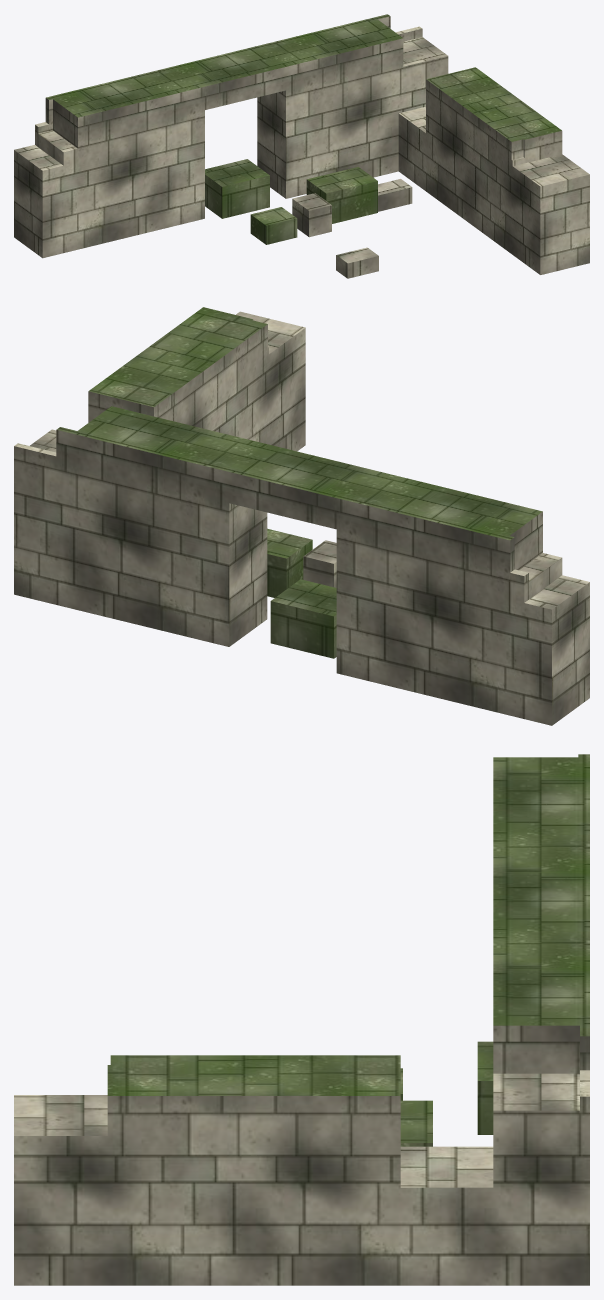
File: ruin-wall-corner.ruins-v1.lod1.glb
3 views of the same model, one above another, from view 1: azimuth 30°, elevation 25°; view 2: azimuth 150°, elevation 25°; view 3: azimuth 270°, elevation 25° (orthographic). The views are drawn at different scales.
Visible parts, largest first — view 1: ruin-wall-corner; view 2: ruin-wall-corner; view 3: ruin-wall-corner.
Part boxes in pixels (<box>): ruin-wall-corner: <box>14,14,589,278</box>; ruin-wall-corner: <box>14,307,589,725</box>; ruin-wall-corner: <box>14,754,589,1285</box>.
Size of the model in its own units: 9 by 2.8 by 6.55.
Materials: 2 (2 with a texture image).
